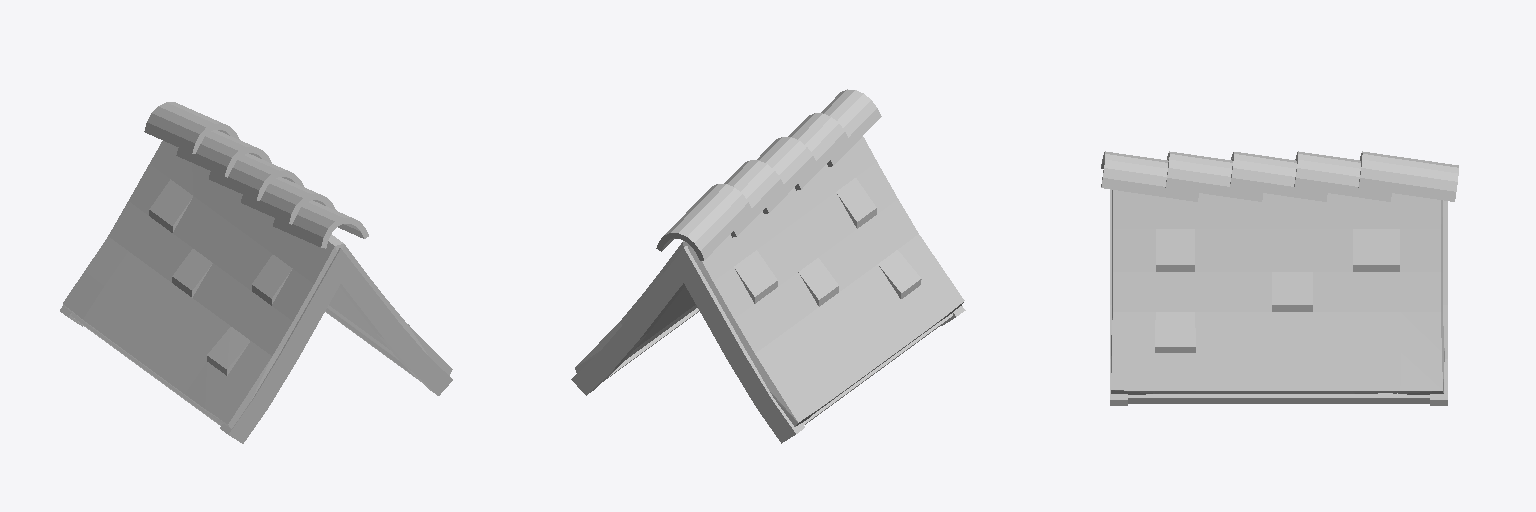
Rendered from Roof_2x4_FlatTile.obj.
3 renders of one model, left to right at view 1: azimuth 30°, elevation 25°; view 2: azimuth 150°, elevation 25°; view 3: azimuth 270°, elevation 25°, orthographic.
Visible parts, largest first — view 1: Roof_2x4_FlatTile; view 2: Roof_2x4_FlatTile; view 3: Roof_2x4_FlatTile.
Boxes of the visible parts, box(x1,y1,x2,y2) form: Roof_2x4_FlatTile: box(60, 102, 452, 443); Roof_2x4_FlatTile: box(571, 89, 965, 443); Roof_2x4_FlatTile: box(1101, 151, 1458, 405).
Size of the model in its own units: 3.09 by 2.67 by 4.23.